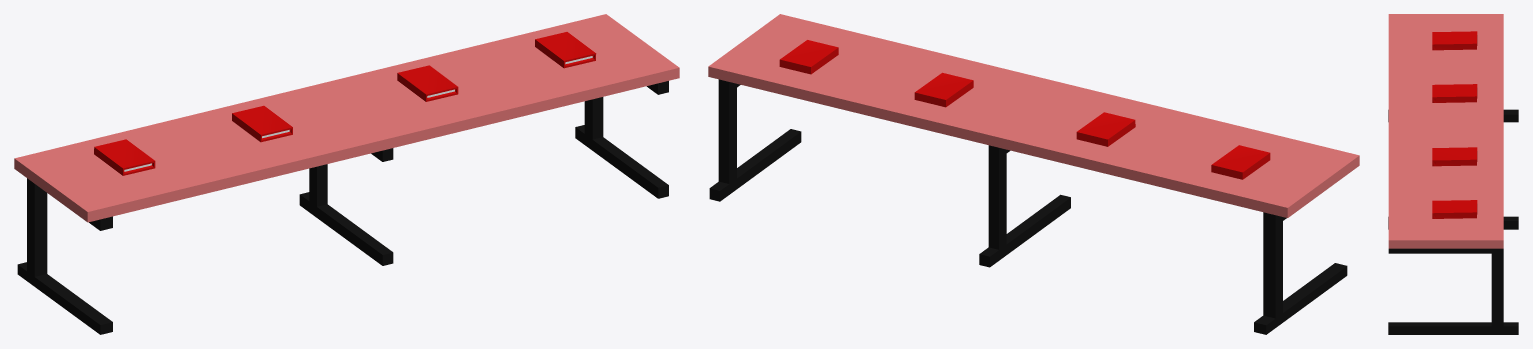
File: Desk_Science_Class.fbx
3 views of the same model, side by side, from view 1: azimuth 30°, elevation 25°; view 2: azimuth 150°, elevation 25°; view 3: azimuth 270°, elevation 25° (orthographic). The views are drawn at different scales.
Parts seen in each view (by area): view 1: DESK2.002; view 2: DESK2.002; view 3: DESK2.002.
Part boxes in pixels (box(x1,y1,x2,y2)): DESK2.002: box(14, 14, 679, 334); DESK2.002: box(708, 14, 1359, 334); DESK2.002: box(1388, 14, 1518, 334).
Bounding box in the file's own units: 21.48 × 4.66 × 5.21.
